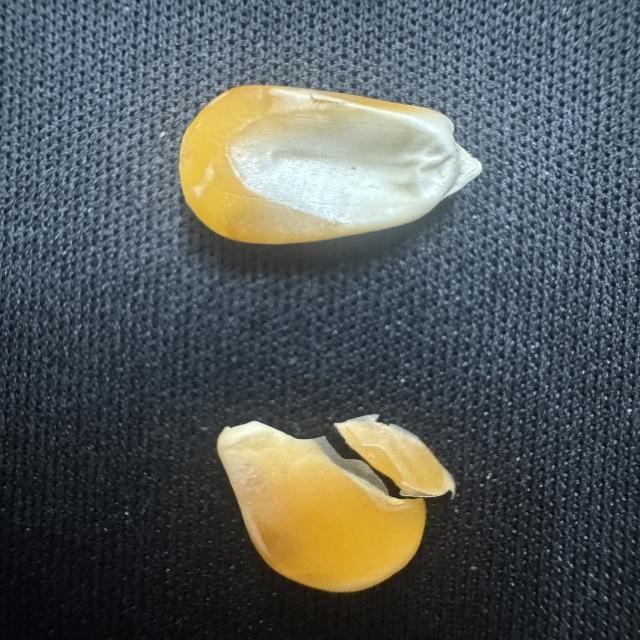Bad-Seed: (182, 408, 470, 601)
Good-Seed: (166, 80, 488, 252)
